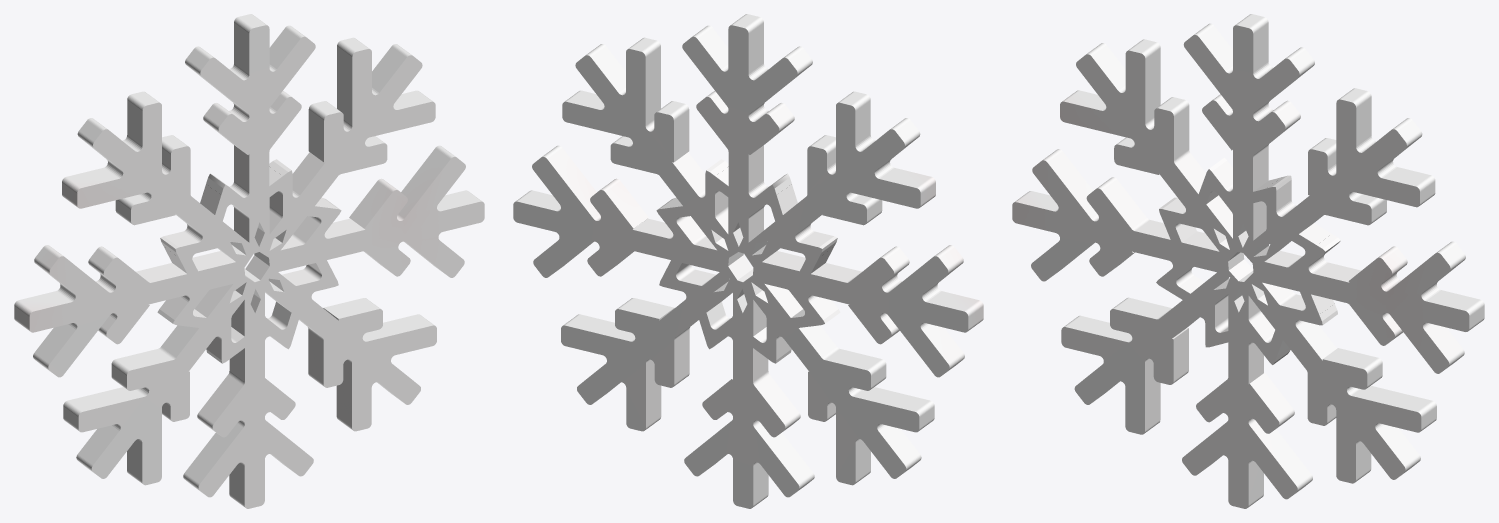
The model's file is snow.glb.
3 views of the same model, side by side, from view 1: azimuth 30°, elevation 25°; view 2: azimuth 150°, elevation 25°; view 3: azimuth 330°, elevation 25° (orthographic).
Parts seen in each view (by area): view 1: uki; view 2: uki; view 3: uki.
Boxes of the visible parts, x1,y1,x2,y2 form: uki: [14, 14, 484, 508]; uki: [513, 14, 983, 508]; uki: [1012, 14, 1484, 508].
Size of the model in its own units: 5.14 by 5.18 by 0.3.
1 material, 1 textured.
